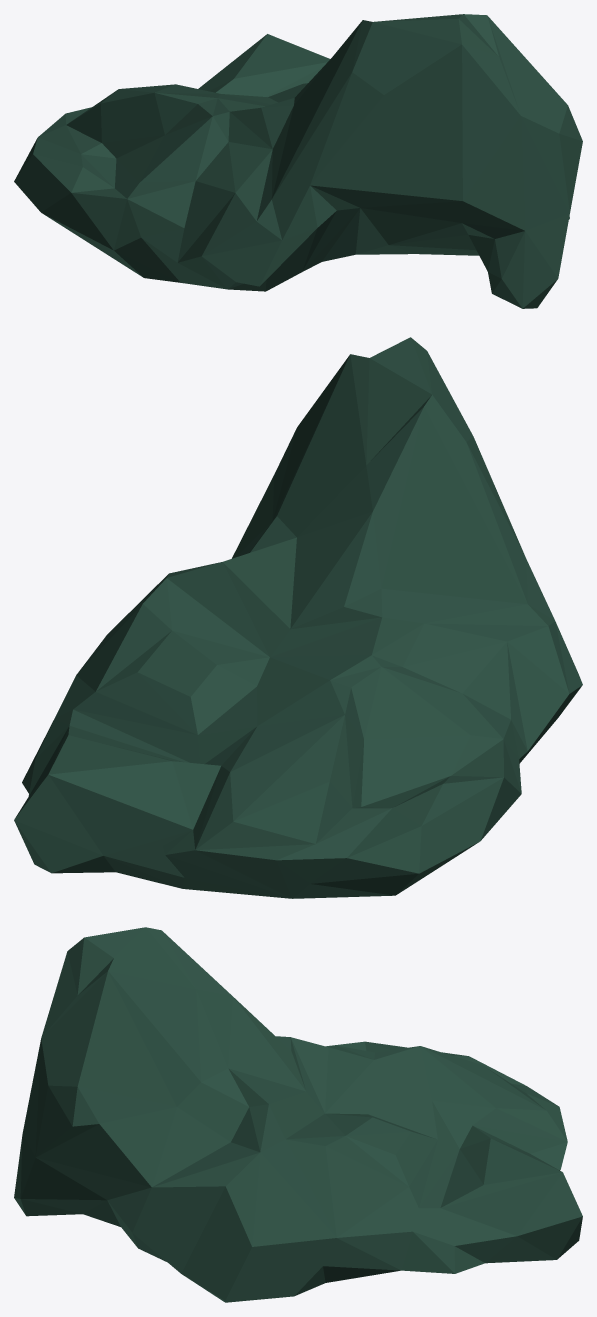
Rendered from SM_large_rock_50.fbx.
3 renders of one model, top to bottom at view 1: azimuth 30°, elevation 25°; view 2: azimuth 150°, elevation 25°; view 3: azimuth 270°, elevation 25°, orthographic. The views are drawn at different scales.
Parts seen in each view (by area): view 1: large_rock_50; view 2: large_rock_50; view 3: large_rock_50.
Part boxes in pixels (x1,y1,x2,y2): large_rock_50: (14,14,582,308); large_rock_50: (14,337,582,898); large_rock_50: (14,927,582,1302).
Bounding box in the file's own units: 88.47 × 62.75 × 110.
